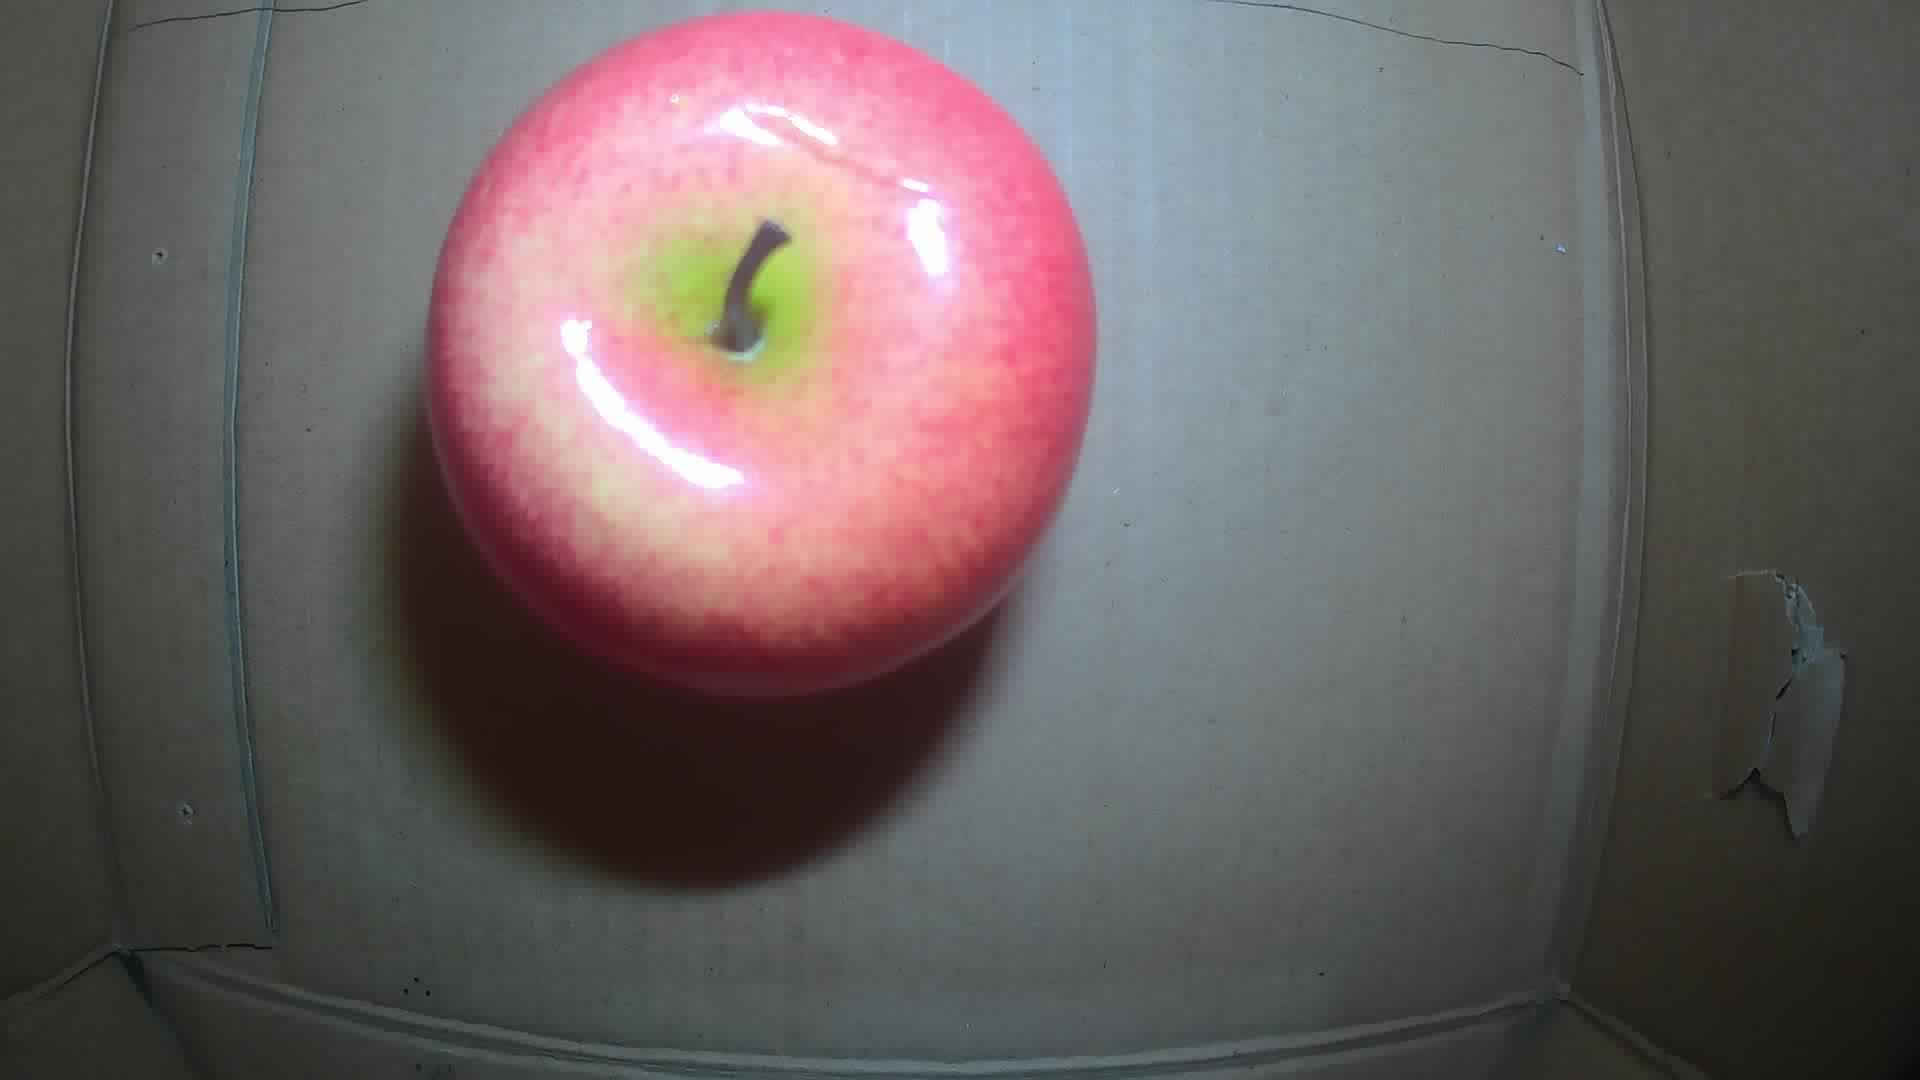apple: (422, 7, 1100, 698)
